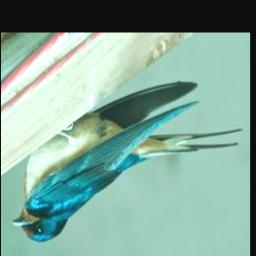Swallow: (12, 80, 243, 245)
